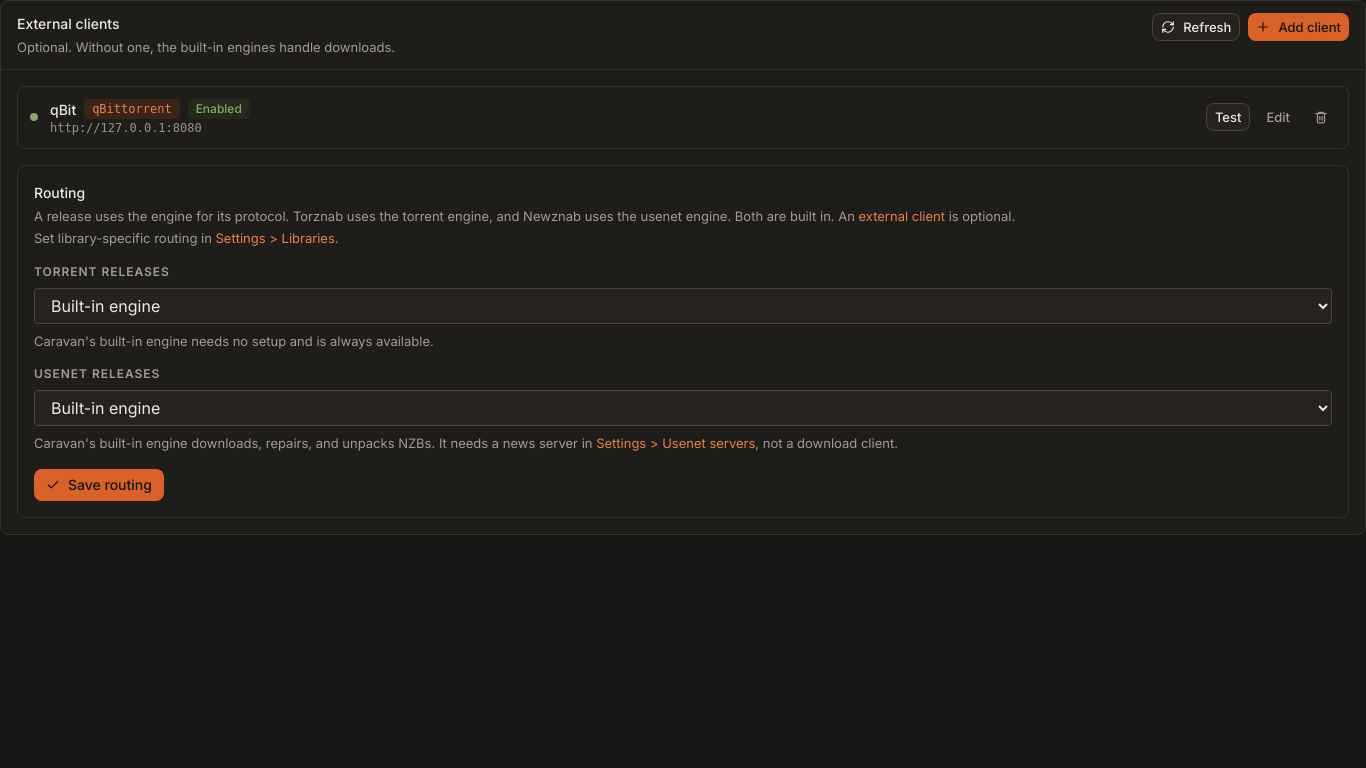
Test case: DownloadClientSettings › disables unavailable types when adding a client and explains why
Click the button "Add client" at (1299, 27), box top-left (1248, 13), bottom-right (1349, 41)
(page scrolled)
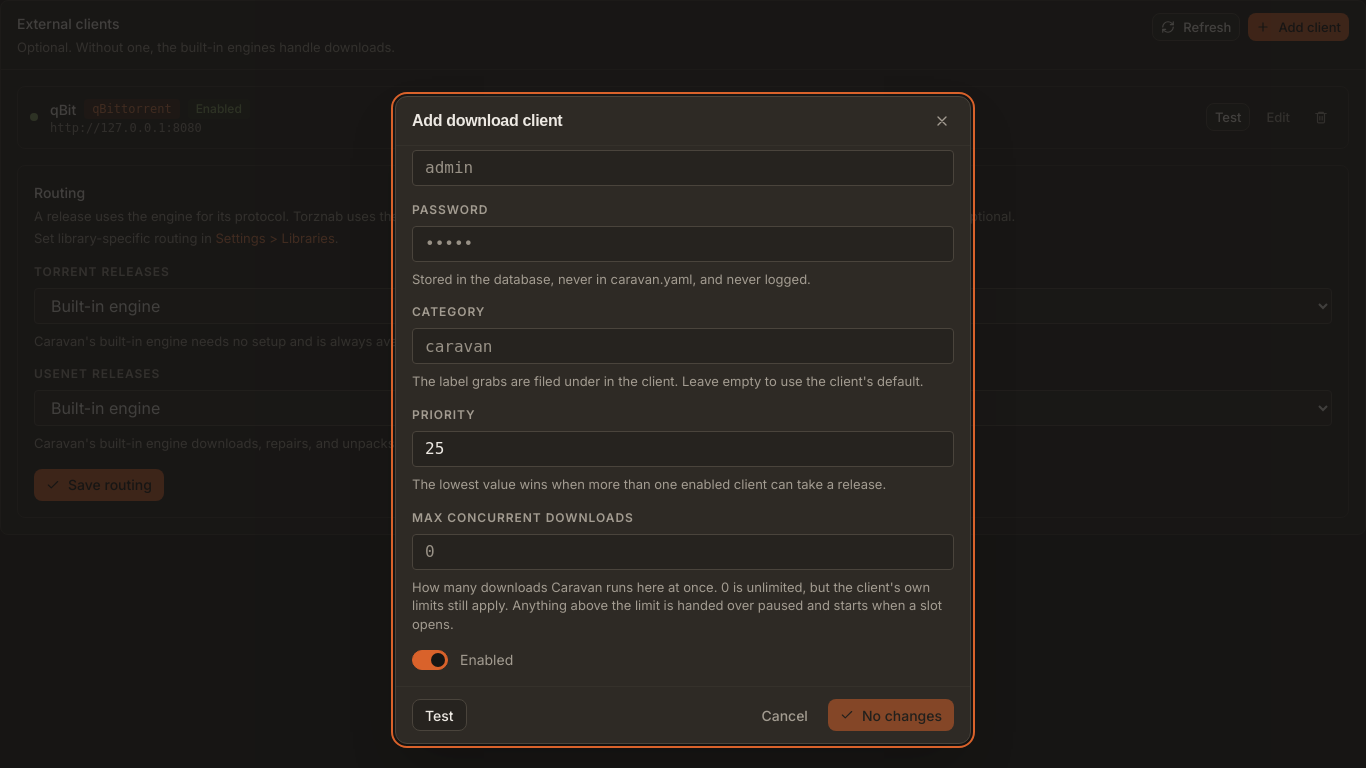
Now the dialog is shown, box top-left (395, 96), bottom-right (971, 744)
Now the field with id "client-username" is shown, box top-left (412, 150), bottom-right (954, 186)
Now the element with id "client-priority" is shown, box top-left (412, 407), bottom-right (954, 494)
